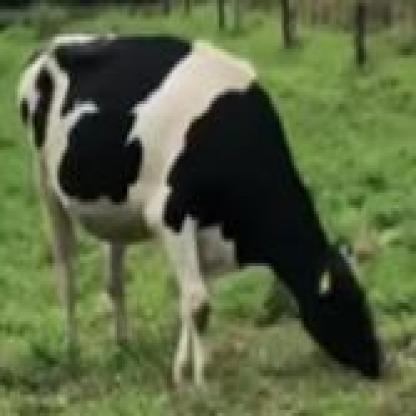cow: (16, 34, 385, 386)
